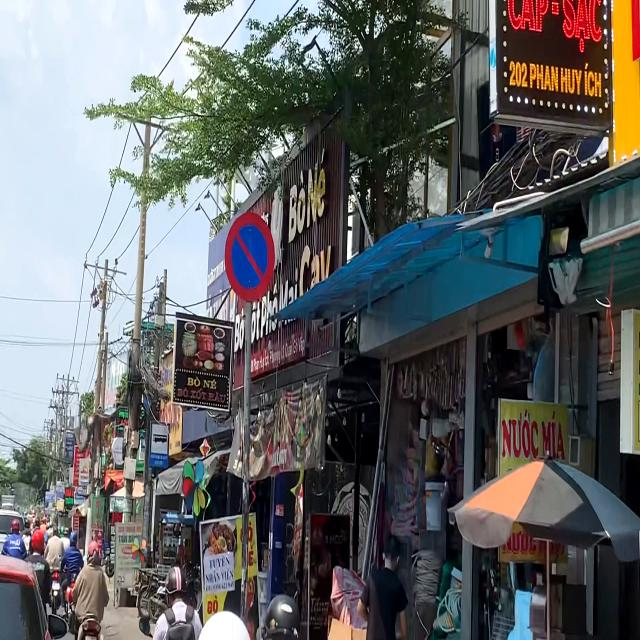P.131a: (221, 212, 277, 304)
